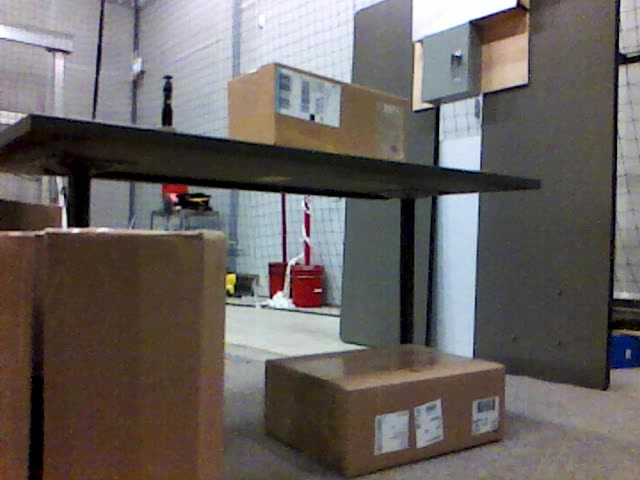box: (1, 228, 226, 480), (266, 342, 506, 477), (229, 62, 410, 160)
